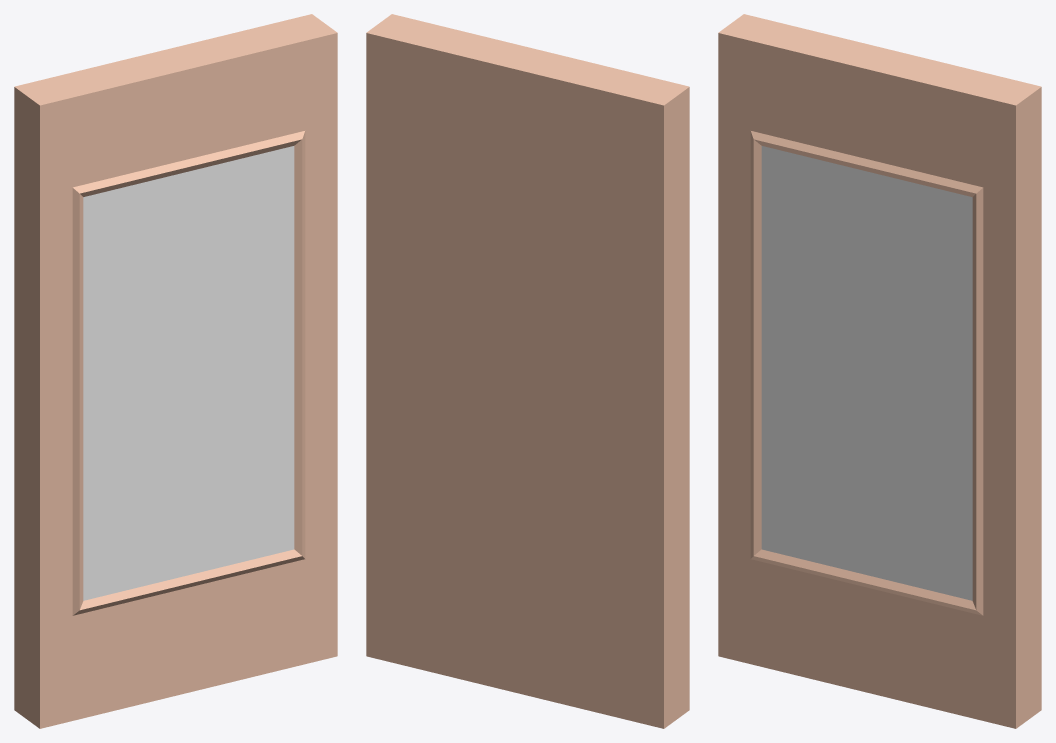
The model's file is MagnoliaGalleryInfo.glb.
The picture shows the model from 3 angles, left to right: view 1: azimuth 30°, elevation 25°; view 2: azimuth 150°, elevation 25°; view 3: azimuth 330°, elevation 25°; orthographic projection.
Parts seen in each view (by area): view 1: galleryInfo_magnolia; view 2: galleryInfo_magnolia; view 3: galleryInfo_magnolia.
Boxes of the visible parts, x1,y1,x2,y2 form: galleryInfo_magnolia: (14, 14, 337, 728); galleryInfo_magnolia: (366, 14, 689, 728); galleryInfo_magnolia: (718, 14, 1041, 728).
Size of what is drawn, in the model's own units: 2 by 4 by 0.3245.
Materials: 1 (1 with a texture image).
